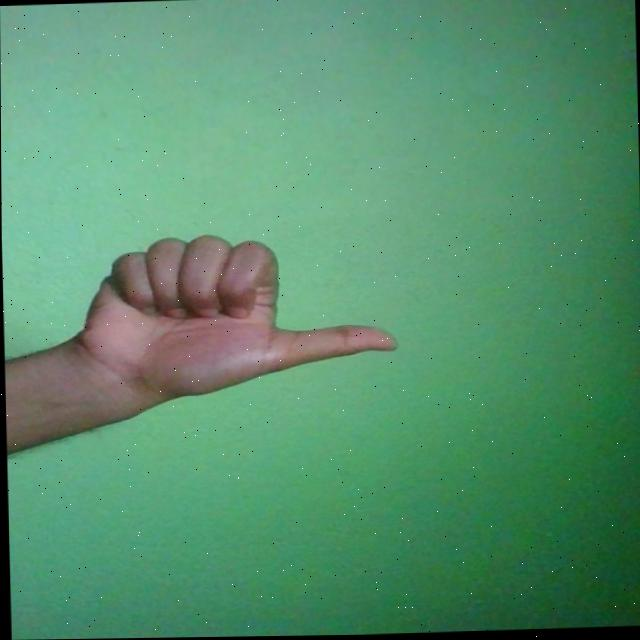Good Job: (72, 228, 398, 402)
